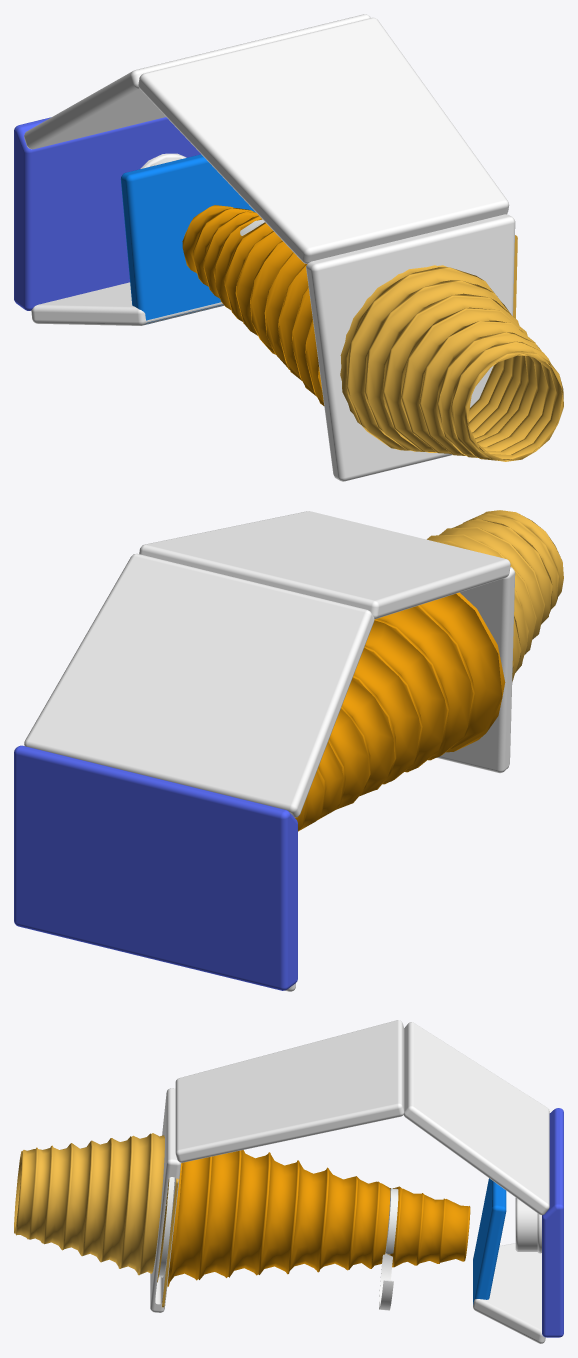
File: Microscope.gltf
3 renders of one model, top to bottom at view 1: azimuth 30°, elevation 25°; view 2: azimuth 150°, elevation 25°; view 3: azimuth 270°, elevation 25°, orthographic. The views are drawn at different scales.
Parts seen in each view (by area): view 1: Solid1:3, Solid1:7, Solid1:1, Solid1:2, Solid2, Solid1:5, Solid1, Solid1:4; view 2: Solid1, Solid1:1, Solid2, Solid1:3, Solid1:7, Solid1:2; view 3: Solid2, Solid1:3, Solid1:7, Solid1, Solid1:4, Solid1:1, Solid1:5, Solid1:2, Solid1:6, Solid1:8, Solid1:10, Solid1:9 (+1 smaller).
Part boxes in pixels (x1,y1,x2,y2): Solid1:3: [138, 17, 509, 263]; Solid1:7: [340, 265, 563, 461]; Solid1:1: [14, 117, 200, 310]; Solid1:2: [306, 214, 515, 481]; Solid2: [182, 205, 324, 405]; Solid1:5: [120, 154, 255, 323]; Solid1: [24, 14, 370, 149]; Solid1:4: [31, 282, 223, 325]; Solid1: [24, 553, 374, 817]; Solid1:1: [14, 745, 297, 990]; Solid2: [295, 592, 505, 831]; Solid1:3: [139, 511, 510, 619]; Solid1:7: [427, 510, 563, 681]; Solid1:2: [436, 567, 515, 773]; Solid2: [167, 1150, 470, 1286]; Solid1:3: [175, 1020, 404, 1162]; Solid1:7: [14, 1133, 169, 1282]; Solid1: [403, 1022, 549, 1214]; Solid1:4: [473, 1243, 545, 1343]; Solid1:1: [542, 1108, 563, 1337]; Solid1:5: [473, 1178, 506, 1304]; Solid1:2: [150, 1088, 181, 1312]; Solid1:6: [515, 1198, 541, 1253]; Solid1:8: [379, 1253, 393, 1310]; Solid1:10: [159, 1177, 174, 1277]; Solid1:9: [385, 1188, 398, 1253].
Bounding box in the file's own units: 161 × 177 × 375.
